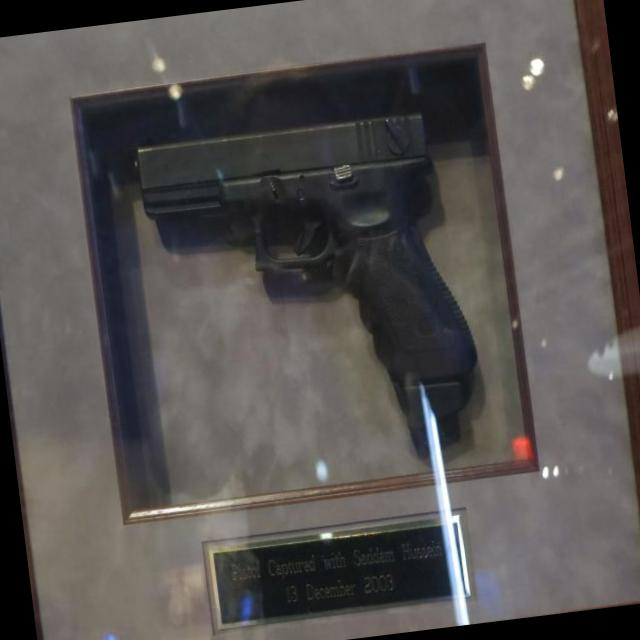Gun: (137, 113, 476, 451)
